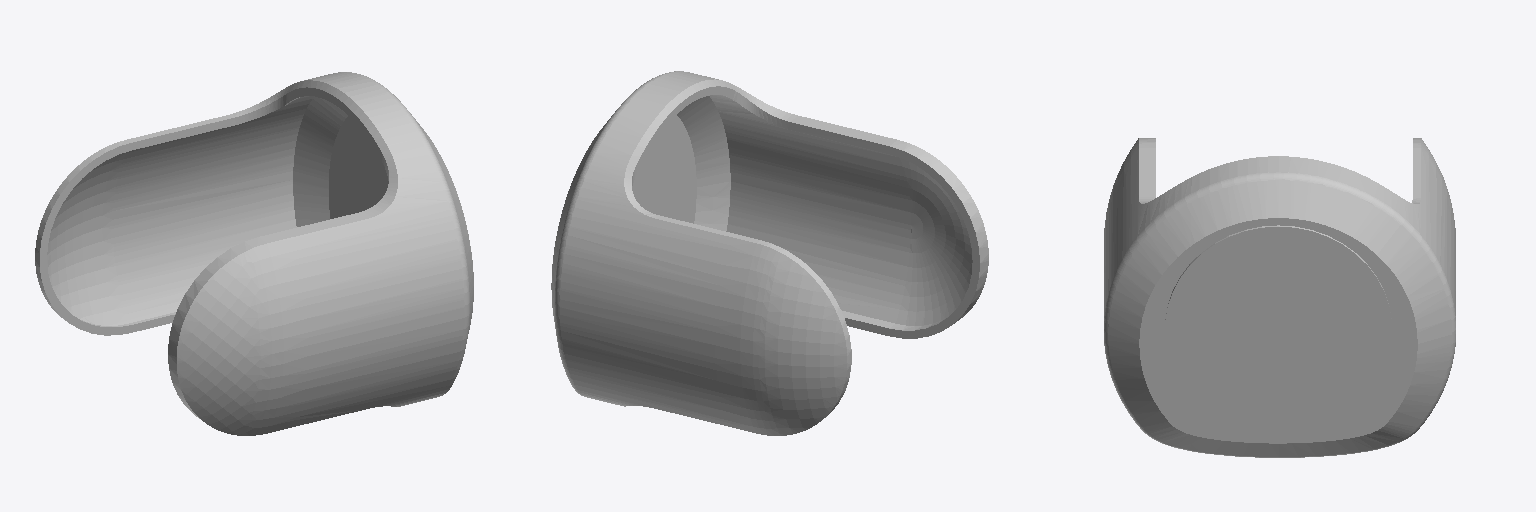
The model's file is left_wrist_yaw_link_collisions.obj.
3 views of the same model, side by side, from view 1: azimuth 30°, elevation 25°; view 2: azimuth 150°, elevation 25°; view 3: azimuth 270°, elevation 25° (orthographic).
Size of the model in its own units: 0.0595 by 0.0539 by 0.0605.